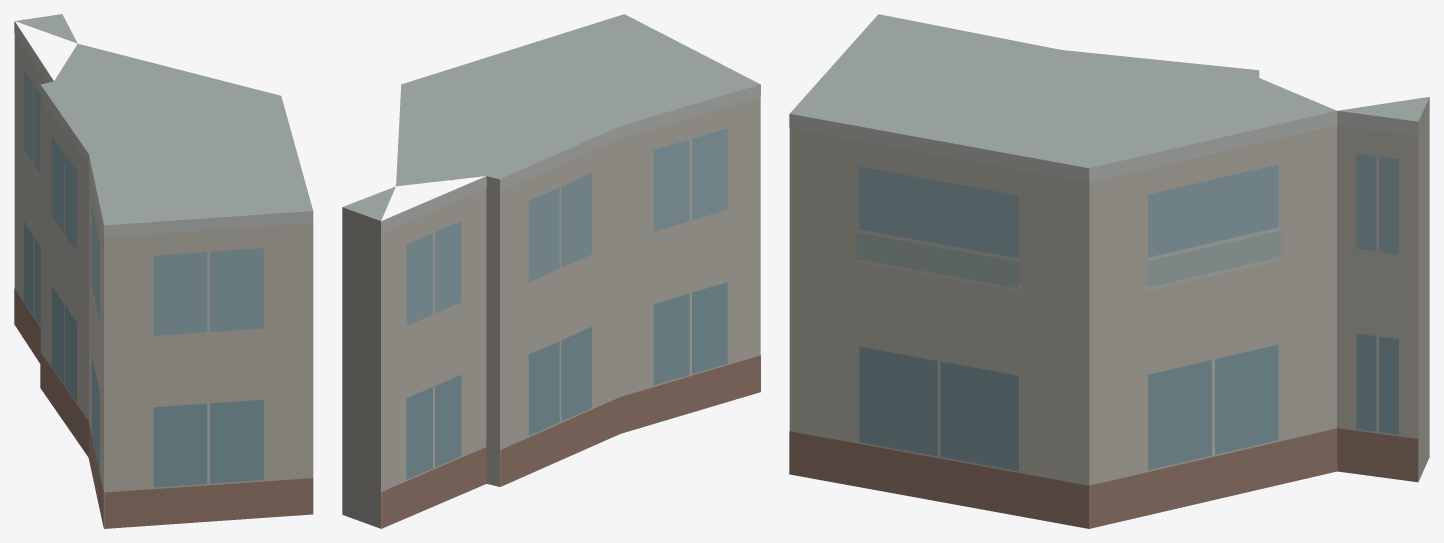
Rendered from survey-upis-32916994.glb.
3 views of the same model, side by side, from view 1: azimuth 30°, elevation 25°; view 2: azimuth 150°, elevation 25°; view 3: azimuth 270°, elevation 25° (orthographic). The views are drawn at different scales.
Parts seen in each view (by area): view 1: survey-upis-32916994.tmp; view 2: survey-upis-32916994.tmp; view 3: survey-upis-32916994.tmp.
Boxes of the visible parts, x1,y1,x2,y2 form: survey-upis-32916994.tmp: (14,14,313,528); survey-upis-32916994.tmp: (342,14,760,528); survey-upis-32916994.tmp: (789,14,1429,528).
Bounding box in the file's own units: 5.6 × 6.1 × 9.82.
